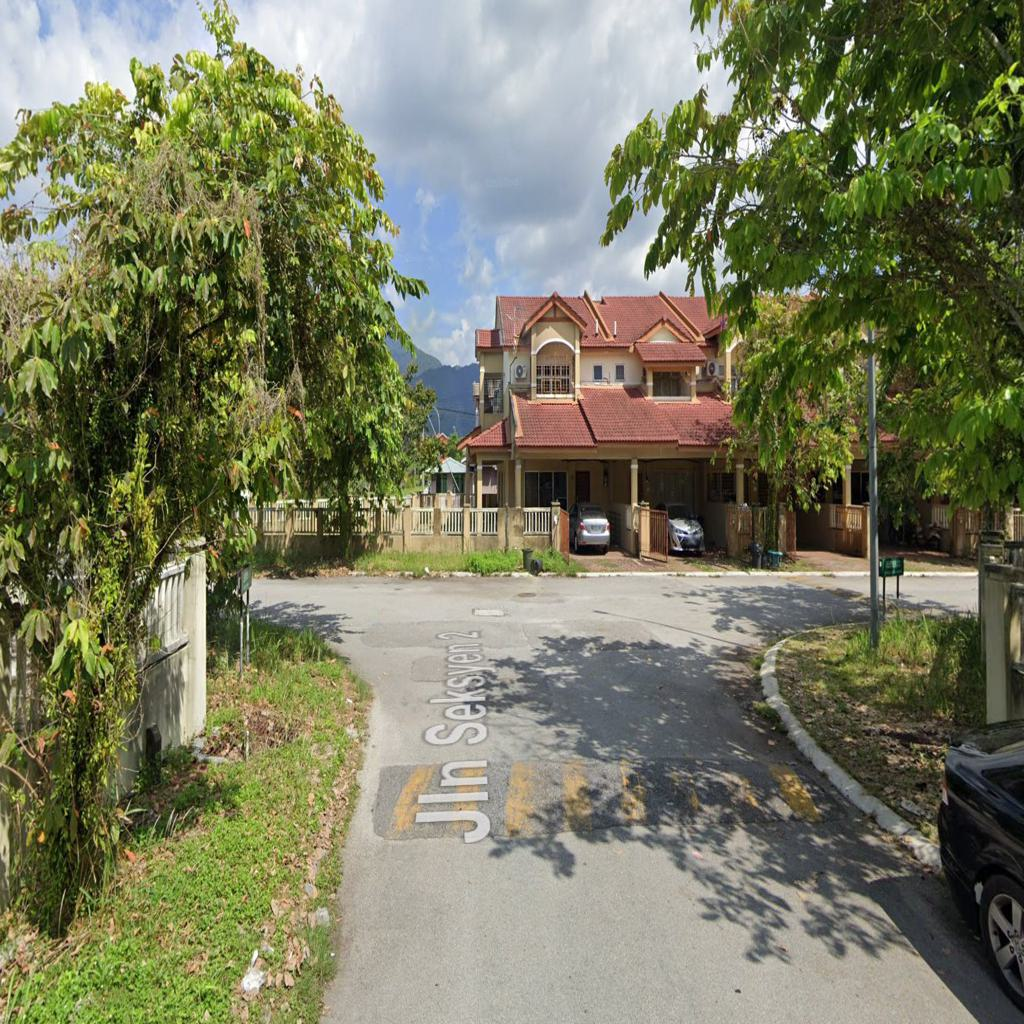Junction: (724, 532, 971, 713), (245, 536, 468, 716)
